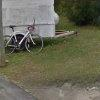Bicycle: (1, 15, 48, 60)
